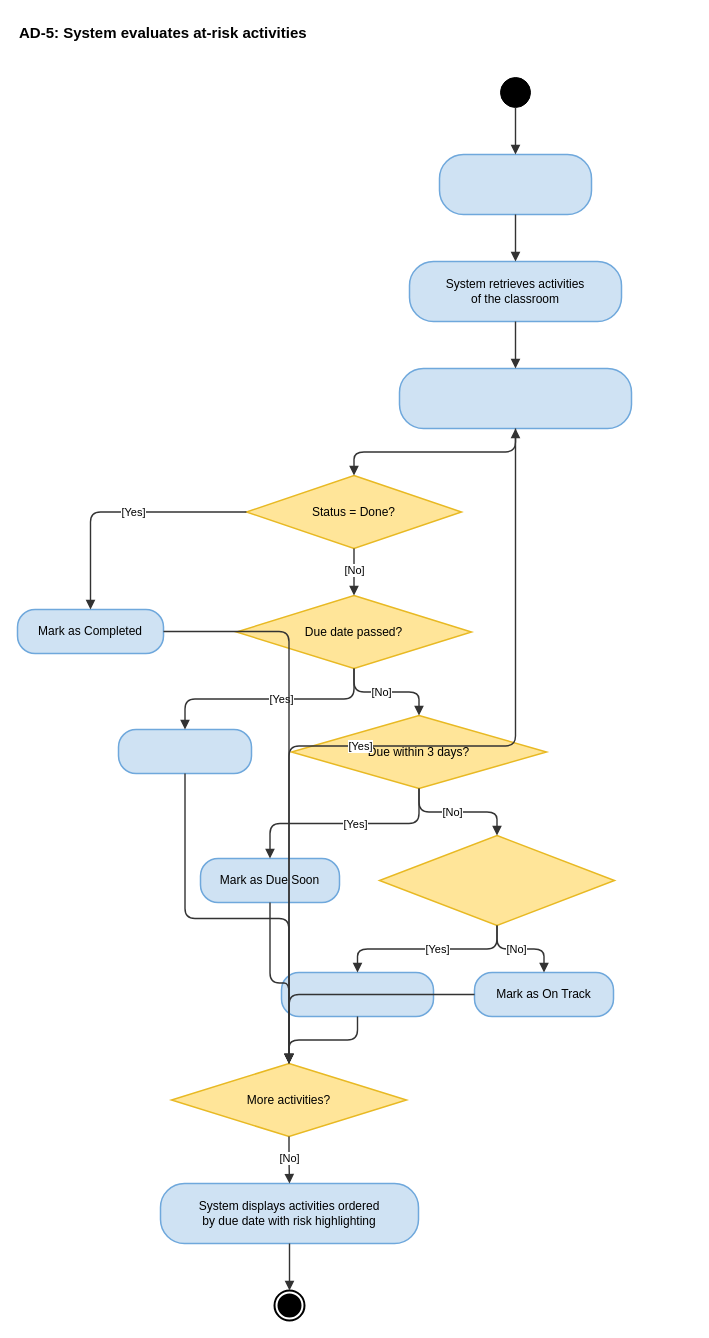
Image size: 709x1338. Some labels were removed from this diagram. Here are the shapes that lost their labels. From the top down, the box of each, then its label:
(438, 153, 592, 215): Staff opens activity dashboard
(398, 367, 632, 429): System takes the next activity (first match wins)
(117, 728, 252, 774): Mark as Overdue
(378, 834, 615, 926): No owner and due within 7 days?
(280, 971, 434, 1017): Mark as Unassigned
